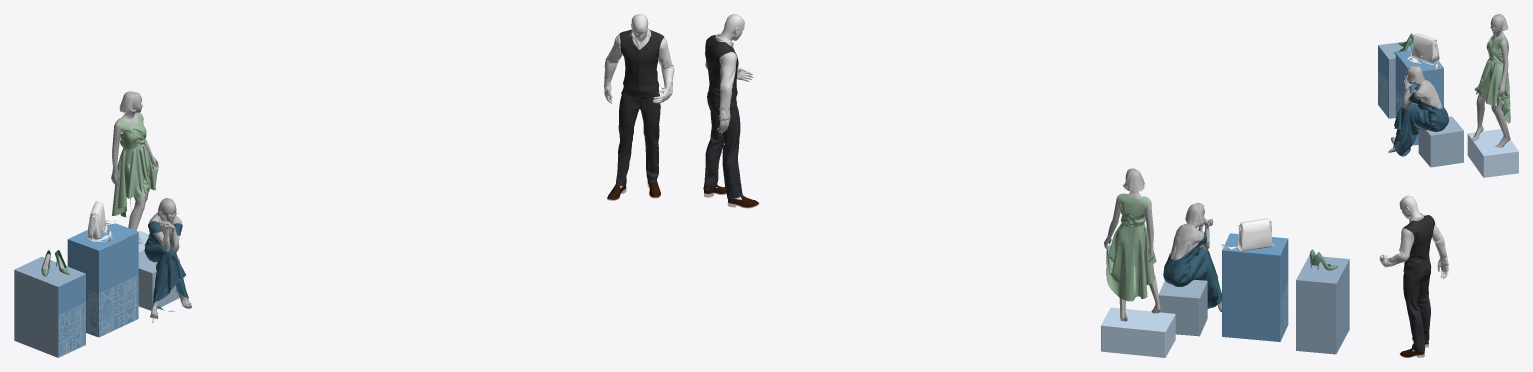
Rendered from detmay_L3.glb.
The picture shows the model from 3 angles, left to right: view 1: azimuth 30°, elevation 25°; view 2: azimuth 150°, elevation 25°; view 3: azimuth 270°, elevation 25°; orthographic projection. The views are drawn at different scales.
Visible parts, largest first — view 1: _l3_Man mannequin ver 2, _l3_Shoes box, _l3_Women mannequin box.001, _l3_Women mannequin, _l3_Women mannequin.001, _l3_Women mannequin box.002, _l3_bagest; view 2: _l3_Women mannequin box.001, _l3_Man mannequin ver 2, _l3_Women mannequin, _l3_Shoes box, _l3_Women mannequin.001, _l3_Women mannequin box, _l3_Women mannequin box.002, _l3_bagest; view 3: _l3_Man mannequin ver 2, _l3_Women mannequin, _l3_Women mannequin.001, _l3_Women mannequin box, _l3_Women mannequin box.002, _l3_Women mannequin box.001, _l3_Shoes box, _l3_bagest, _l3_Shose.
Part boxes in pixels (x1,y1,x2,y2): _l3_Man mannequin ver 2: [604, 14, 674, 200]; _l3_Shoes box: [14, 256, 85, 357]; _l3_Women mannequin box.001: [67, 220, 138, 337]; _l3_Women mannequin: [111, 91, 158, 243]; _l3_Women mannequin.001: [144, 198, 191, 322]; _l3_Women mannequin box.002: [138, 250, 179, 310]; _l3_bagest: [87, 201, 116, 242]; _l3_Women mannequin box.001: [1222, 233, 1288, 341]; _l3_Man mannequin ver 2: [703, 14, 758, 207]; _l3_Women mannequin: [1104, 168, 1160, 321]; _l3_Shoes box: [1296, 255, 1349, 354]; _l3_Women mannequin.001: [1163, 202, 1221, 311]; _l3_Women mannequin box: [1101, 307, 1175, 357]; _l3_Women mannequin box.002: [1158, 280, 1207, 336]; _l3_bagest: [1221, 218, 1274, 251]; _l3_Man mannequin ver 2: [1379, 195, 1448, 357]; _l3_Women mannequin: [1472, 14, 1510, 147]; _l3_Women mannequin.001: [1388, 65, 1448, 156]; _l3_Women mannequin box: [1467, 129, 1518, 177]; _l3_Women mannequin box.002: [1418, 116, 1463, 167]; _l3_Women mannequin box.001: [1395, 50, 1443, 145]; _l3_Shoes box: [1378, 41, 1412, 118]; _l3_bagest: [1407, 33, 1440, 69]; _l3_Shose: [1393, 33, 1413, 53].
Size of the model in its own units: 11.18 by 3.05 by 2.52.
19 materials, 3 textured.
